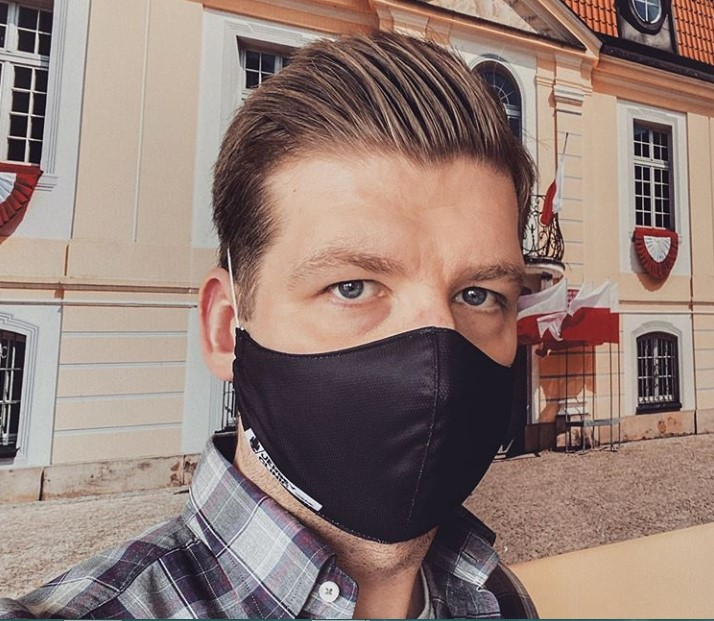face_with_mask: (204, 51, 528, 542)
